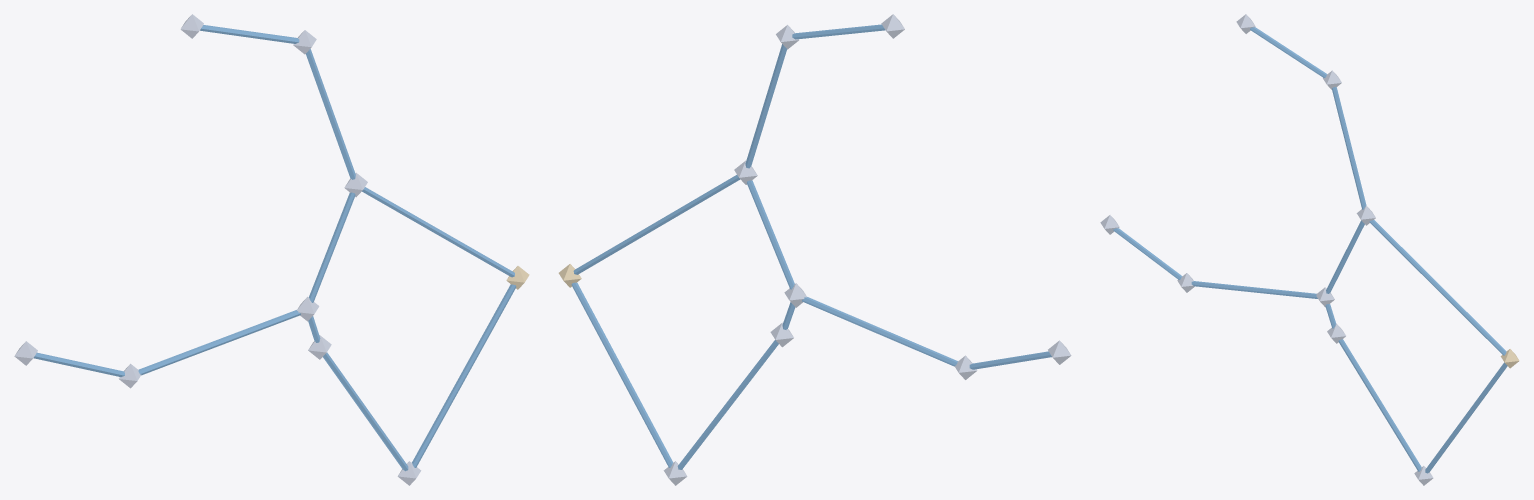
File: constellation-crt.glb
3 renders of one model, left to right at view 1: azimuth 30°, elevation 25°; view 2: azimuth 150°, elevation 25°; view 3: azimuth 330°, elevation 25°, orthographic. The views are drawn at different scales.
Bounding box in the file's own units: 1.47 × 1.43 × 0.1146.
